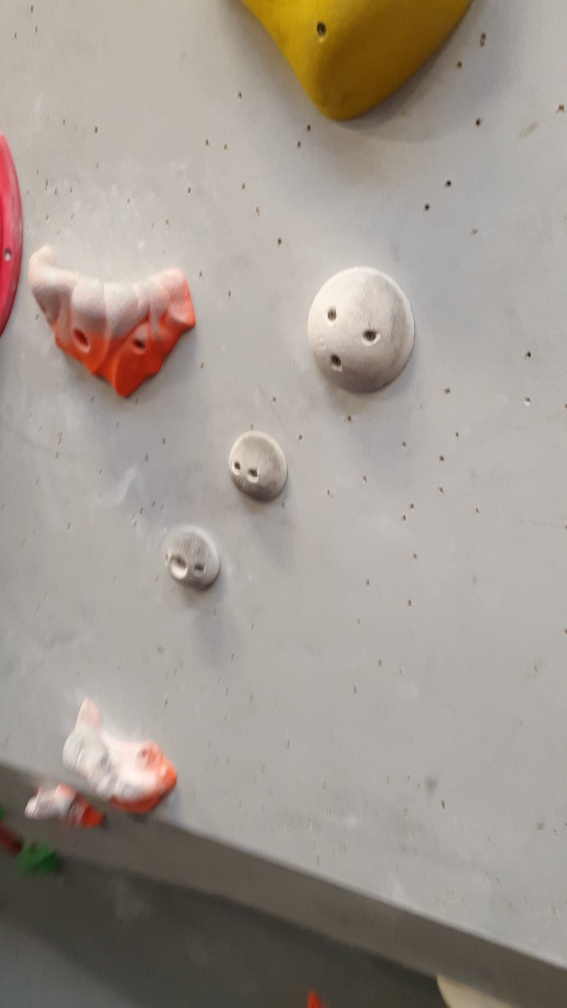Jug: (27, 241, 200, 403), (59, 696, 181, 820)
Sloper: (304, 266, 419, 396), (226, 427, 289, 507), (164, 524, 224, 591)
